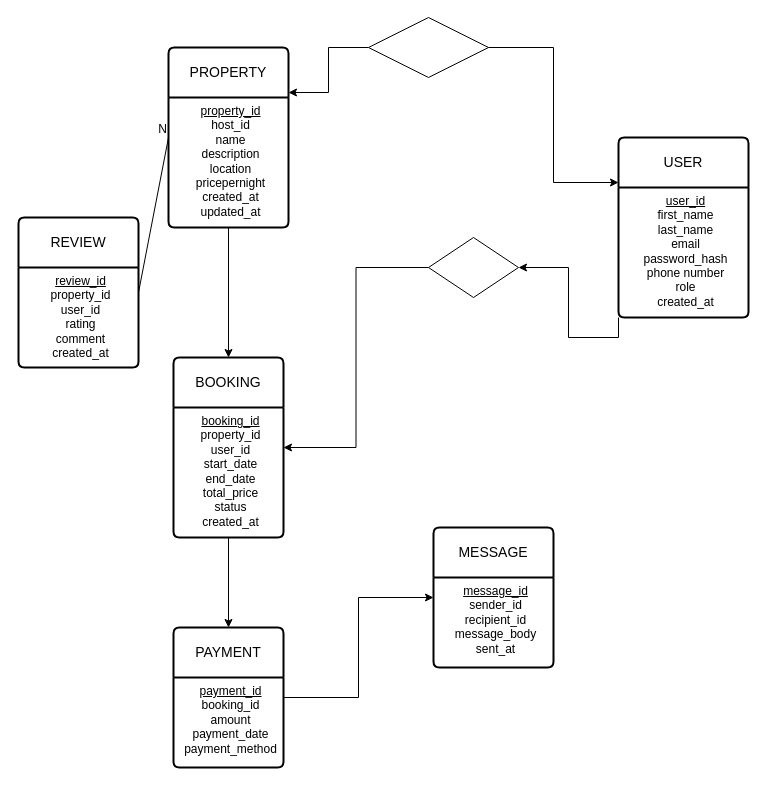
Image size: 766x786. Some labels were removed from this diagram. The box of each missing label's shape, as (x1, y1, x2, y2) in pixels:
As a guest: (428, 236, 518, 298)
As an host: (368, 16, 488, 78)
